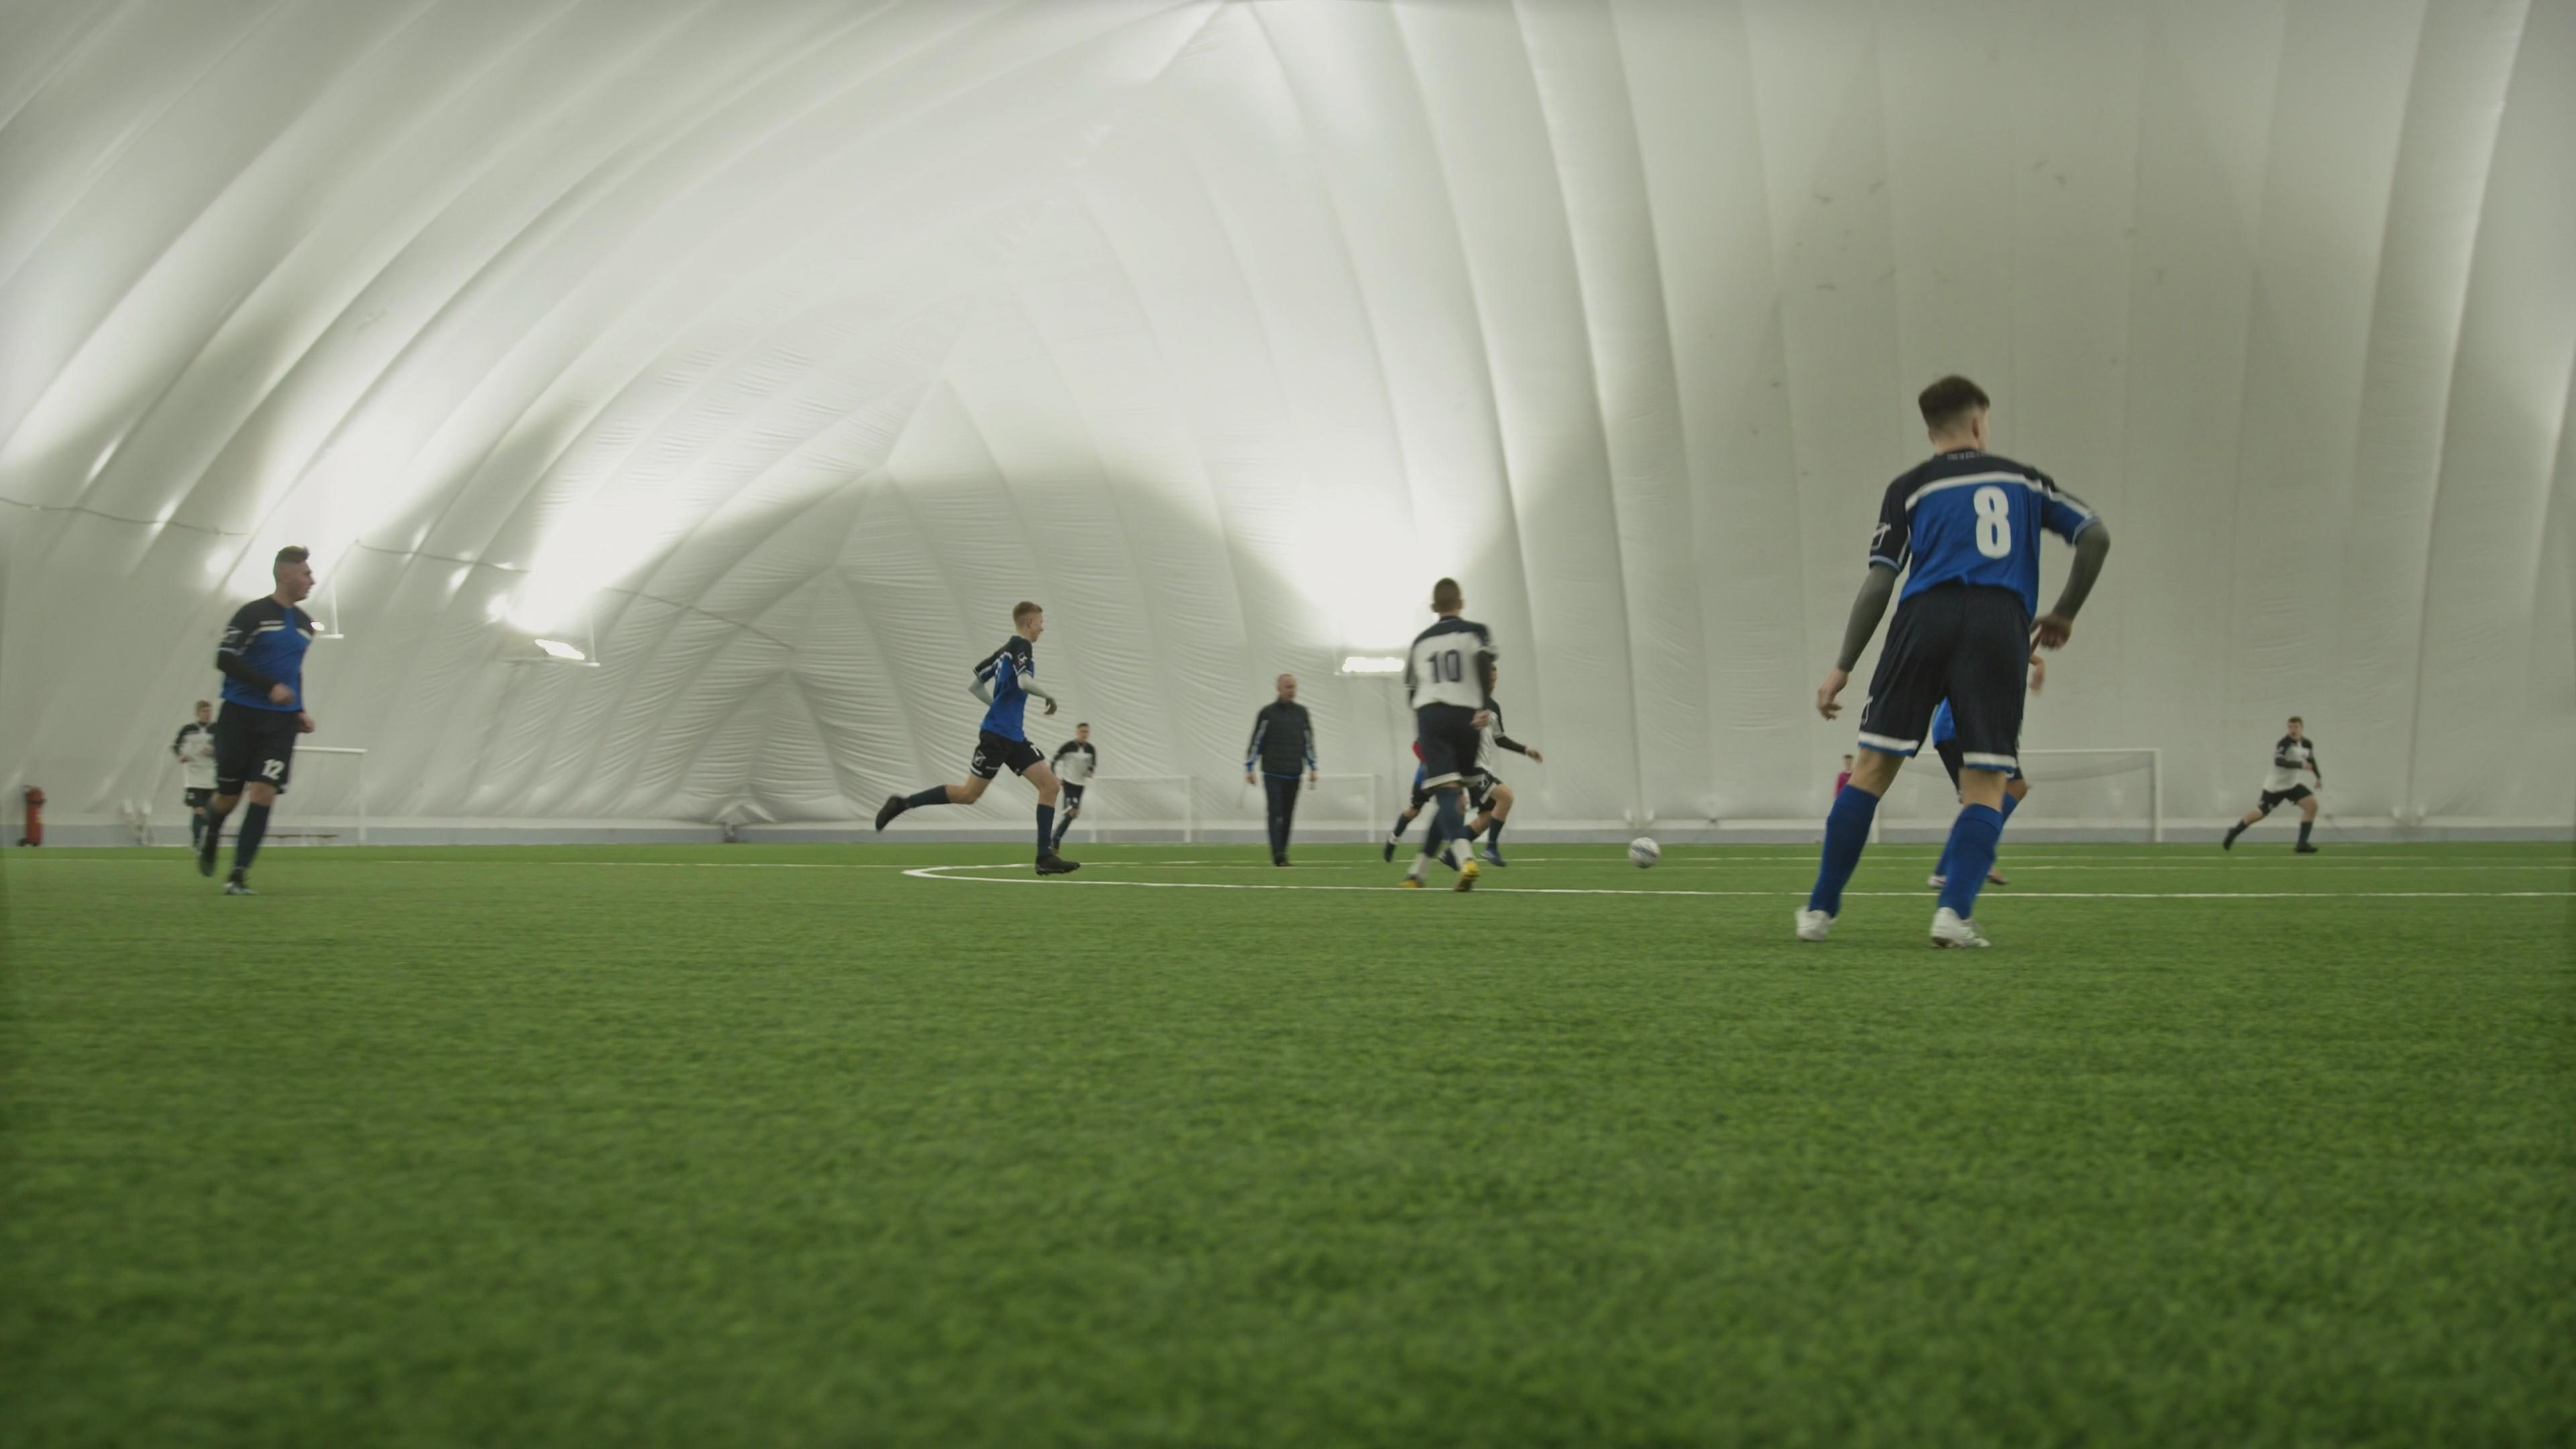other: (1244, 674, 1316, 869)
team1: (1792, 372, 2114, 950), (876, 598, 1088, 863), (202, 545, 329, 890)
team2: (1394, 577, 1504, 890), (2220, 711, 2323, 855), (1033, 722, 1095, 874), (170, 701, 223, 865)
